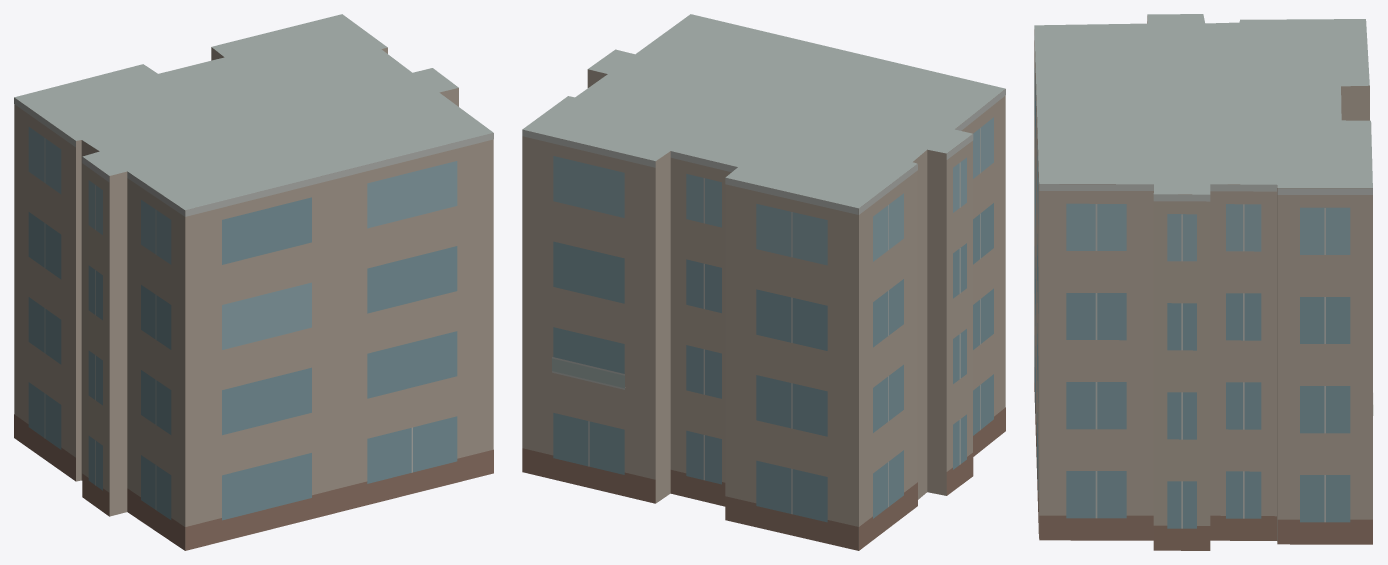
File: survey-upis-32840751.glb
3 renders of one model, left to right at view 1: azimuth 30°, elevation 25°; view 2: azimuth 150°, elevation 25°; view 3: azimuth 270°, elevation 25°, orthographic. The views are drawn at different scales.
Visible parts, largest first — view 1: survey-upis-32840751.tmp; view 2: survey-upis-32840751.tmp; view 3: survey-upis-32840751.tmp.
Part boxes in pixels (x1,y1,x2,y2): survey-upis-32840751.tmp: (14,14,493,550); survey-upis-32840751.tmp: (522,14,1005,550); survey-upis-32840751.tmp: (1034,14,1373,550).
Size of the model in its own units: 13.59 by 12.5 by 10.8.
